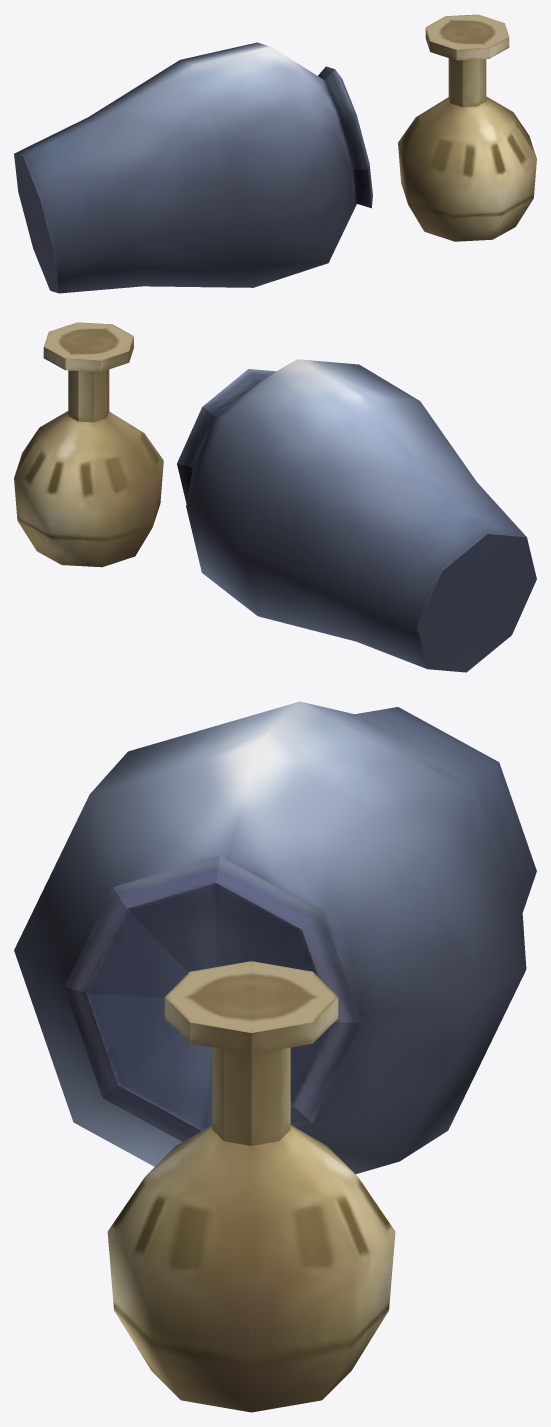
The model's file is PingZi02.FBX.
3 views of the same model, one above another, from view 1: azimuth 30°, elevation 25°; view 2: azimuth 150°, elevation 25°; view 3: azimuth 270°, elevation 25° (orthographic). The views are drawn at different scales.
Visible parts, largest first — view 1: PingZi02; view 2: PingZi02; view 3: PingZi02.
Boxes of the visible parts, x1,y1,x2,y2 form: PingZi02: (14, 14, 536, 293); PingZi02: (14, 322, 536, 672); PingZi02: (14, 701, 536, 1412).
Size of the model in its own units: 51.52 by 23.97 by 24.63.
